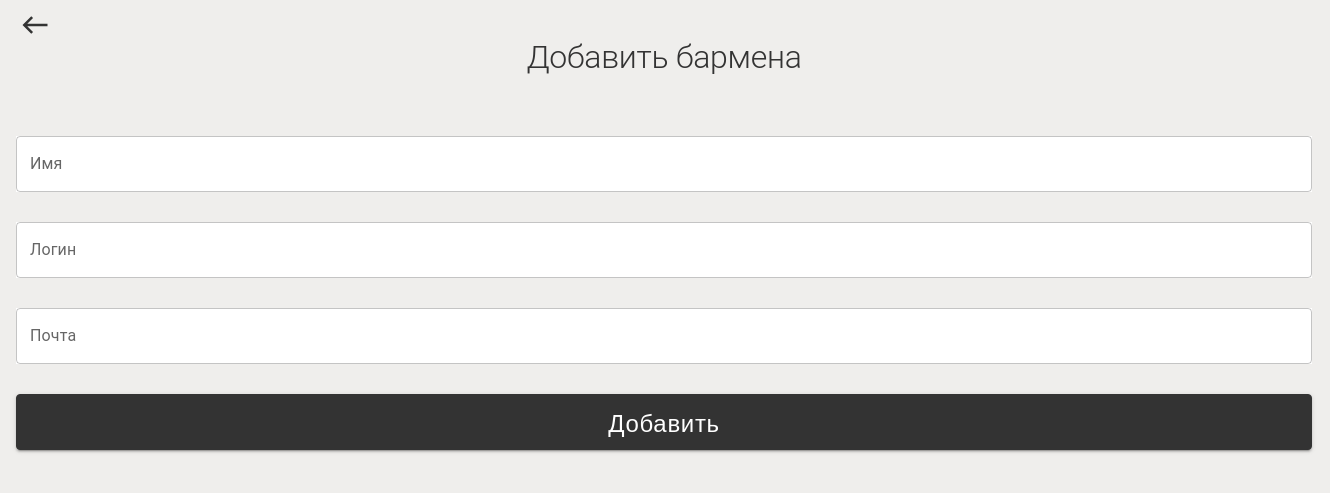
Scenario: AdminRegisterBarmanForm › показывает ошибку при некорректном email
The image size is (1330, 493).
Type "Иван" into the field labelled "Имя" at point(664, 164), box [16,136,1312,192]
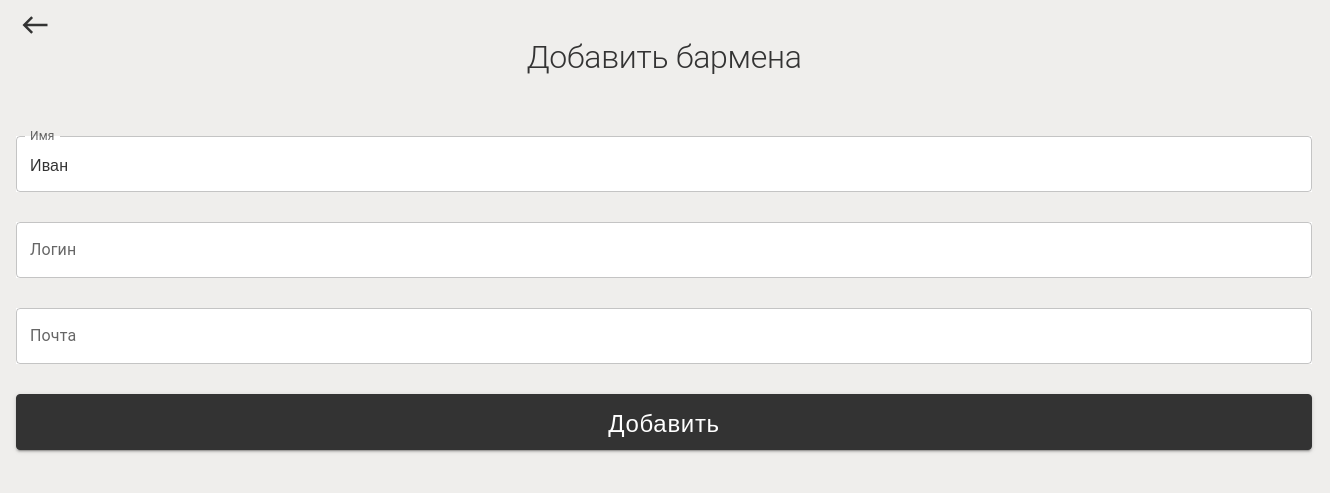
Type "ivan" into the field labelled "Логин" at point(664, 250), box [16,222,1312,278]
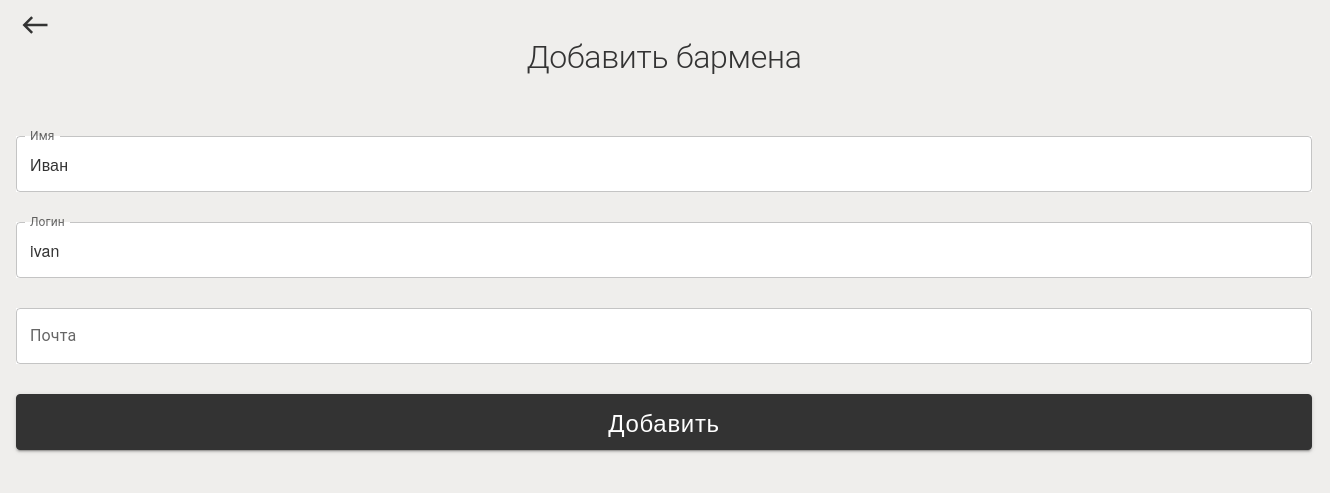
Type "ivan-at-example.com" into the field labelled "Почта" at point(664, 336), box [16,308,1312,364]
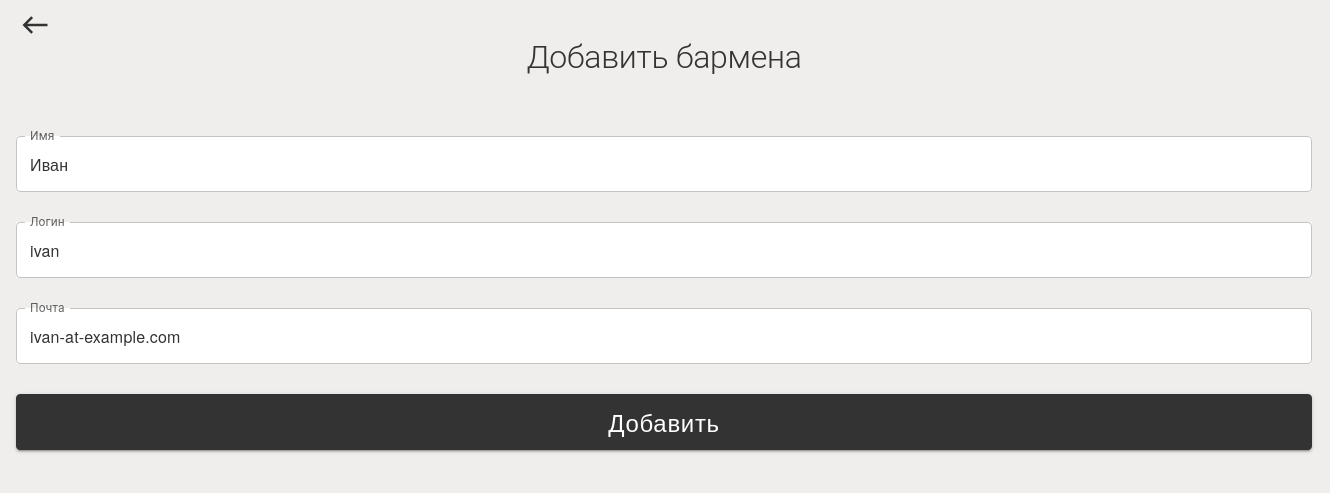
Click the button "Добавить" at point(664, 422), box [16,394,1312,450]
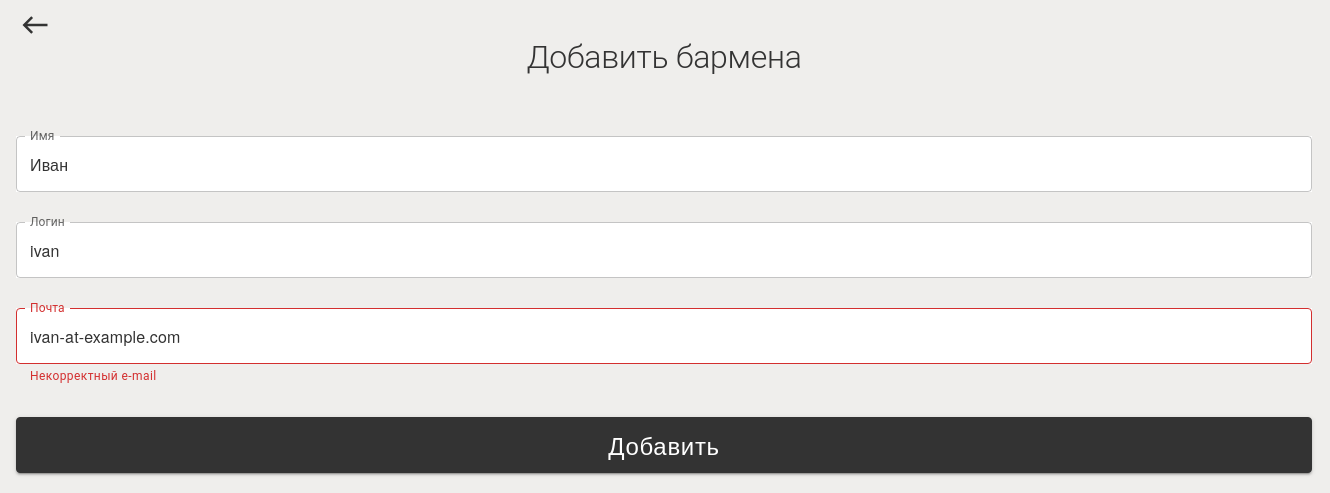
expect the text "Некорректный e‑mail" is shown: met, box [30,369,156,383]
